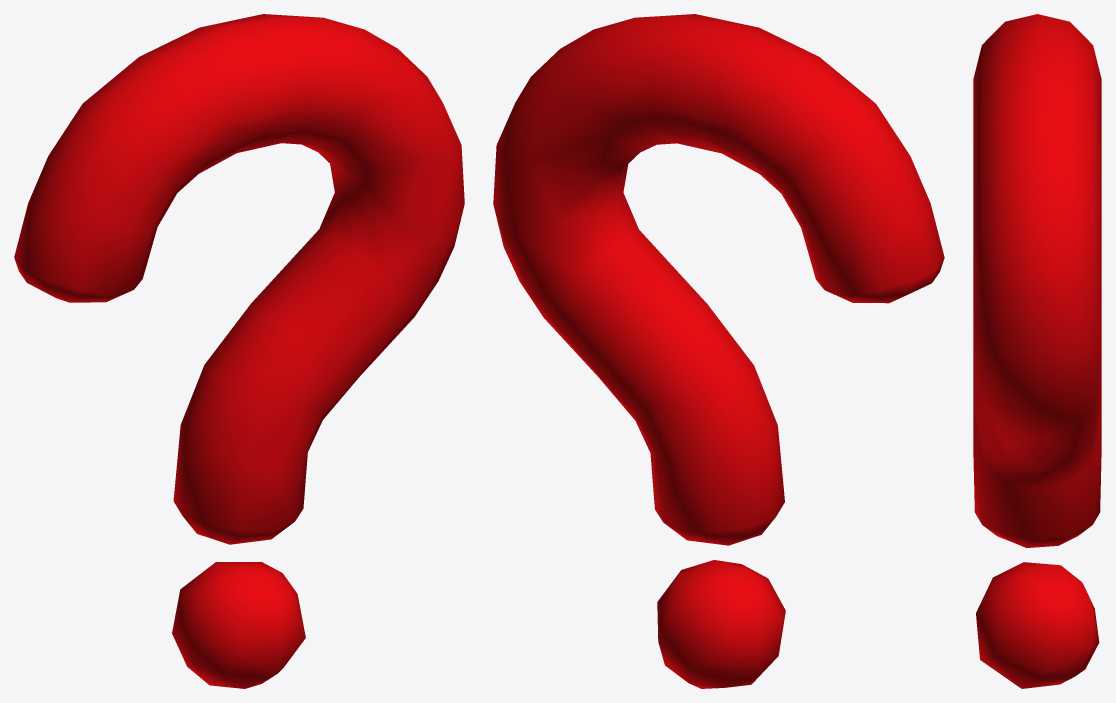
File: question_3d_icon.glb
The picture shows the model from 3 angles, left to right: view 1: azimuth 30°, elevation 25°; view 2: azimuth 150°, elevation 25°; view 3: azimuth 270°, elevation 25°; orthographic projection. The views are drawn at different scales.
Parts seen in each view (by area): view 1: BezierCurve, Cube; view 2: BezierCurve, Cube; view 3: BezierCurve, Cube.
Part boxes in pixels (x1=…): BezierCurve: x1=14, y1=14, x2=464, y2=544; Cube: x1=172, y1=562, x2=305, y2=688; BezierCurve: x1=493, y1=14, x2=944, y2=545; Cube: x1=657, y1=560, x2=785, y2=688; BezierCurve: x1=973, y1=14, x2=1101, y2=547; Cube: x1=976, y1=562, x2=1099, y2=688.
Bounding box in the file's own units: 2.14 × 3.1 × 0.5604.
